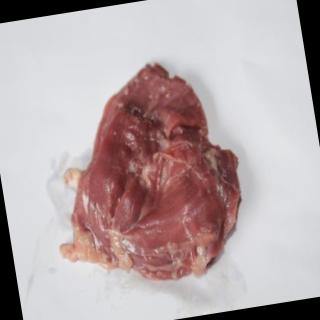Daging Sapi: (35, 55, 254, 299)
